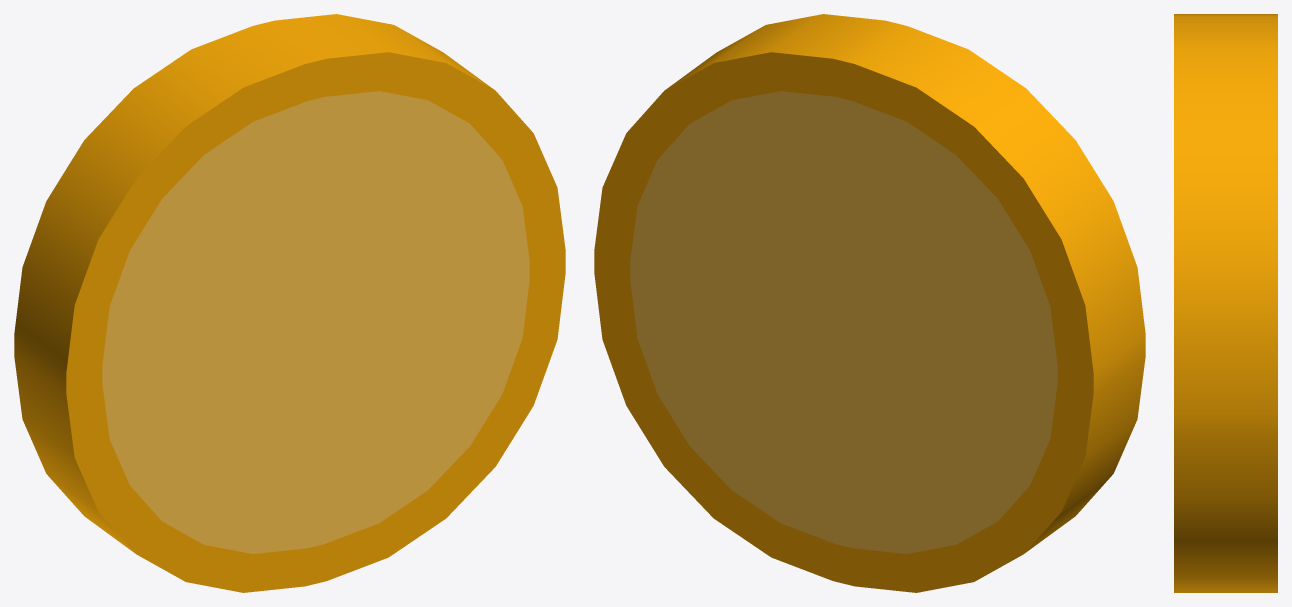
The model's file is coin.fbx.
3 renders of one model, left to right at view 1: azimuth 30°, elevation 25°; view 2: azimuth 150°, elevation 25°; view 3: azimuth 270°, elevation 25°, orthographic.
Parts seen in each view (by area): view 1: Куб.007; view 2: Куб.007; view 3: Куб.007.
Boxes of the visible parts, x1=… form: Куб.007: x1=14, y1=14, x2=565, y2=592; Куб.007: x1=594, y1=14, x2=1145, y2=592; Куб.007: x1=1174, y1=14, x2=1277, y2=592.
Bounding box in the file's own units: 200 × 200 × 36.2.
